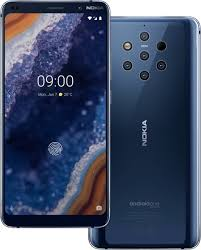nokia: (93, 14, 199, 248), (1, 1, 108, 231)
